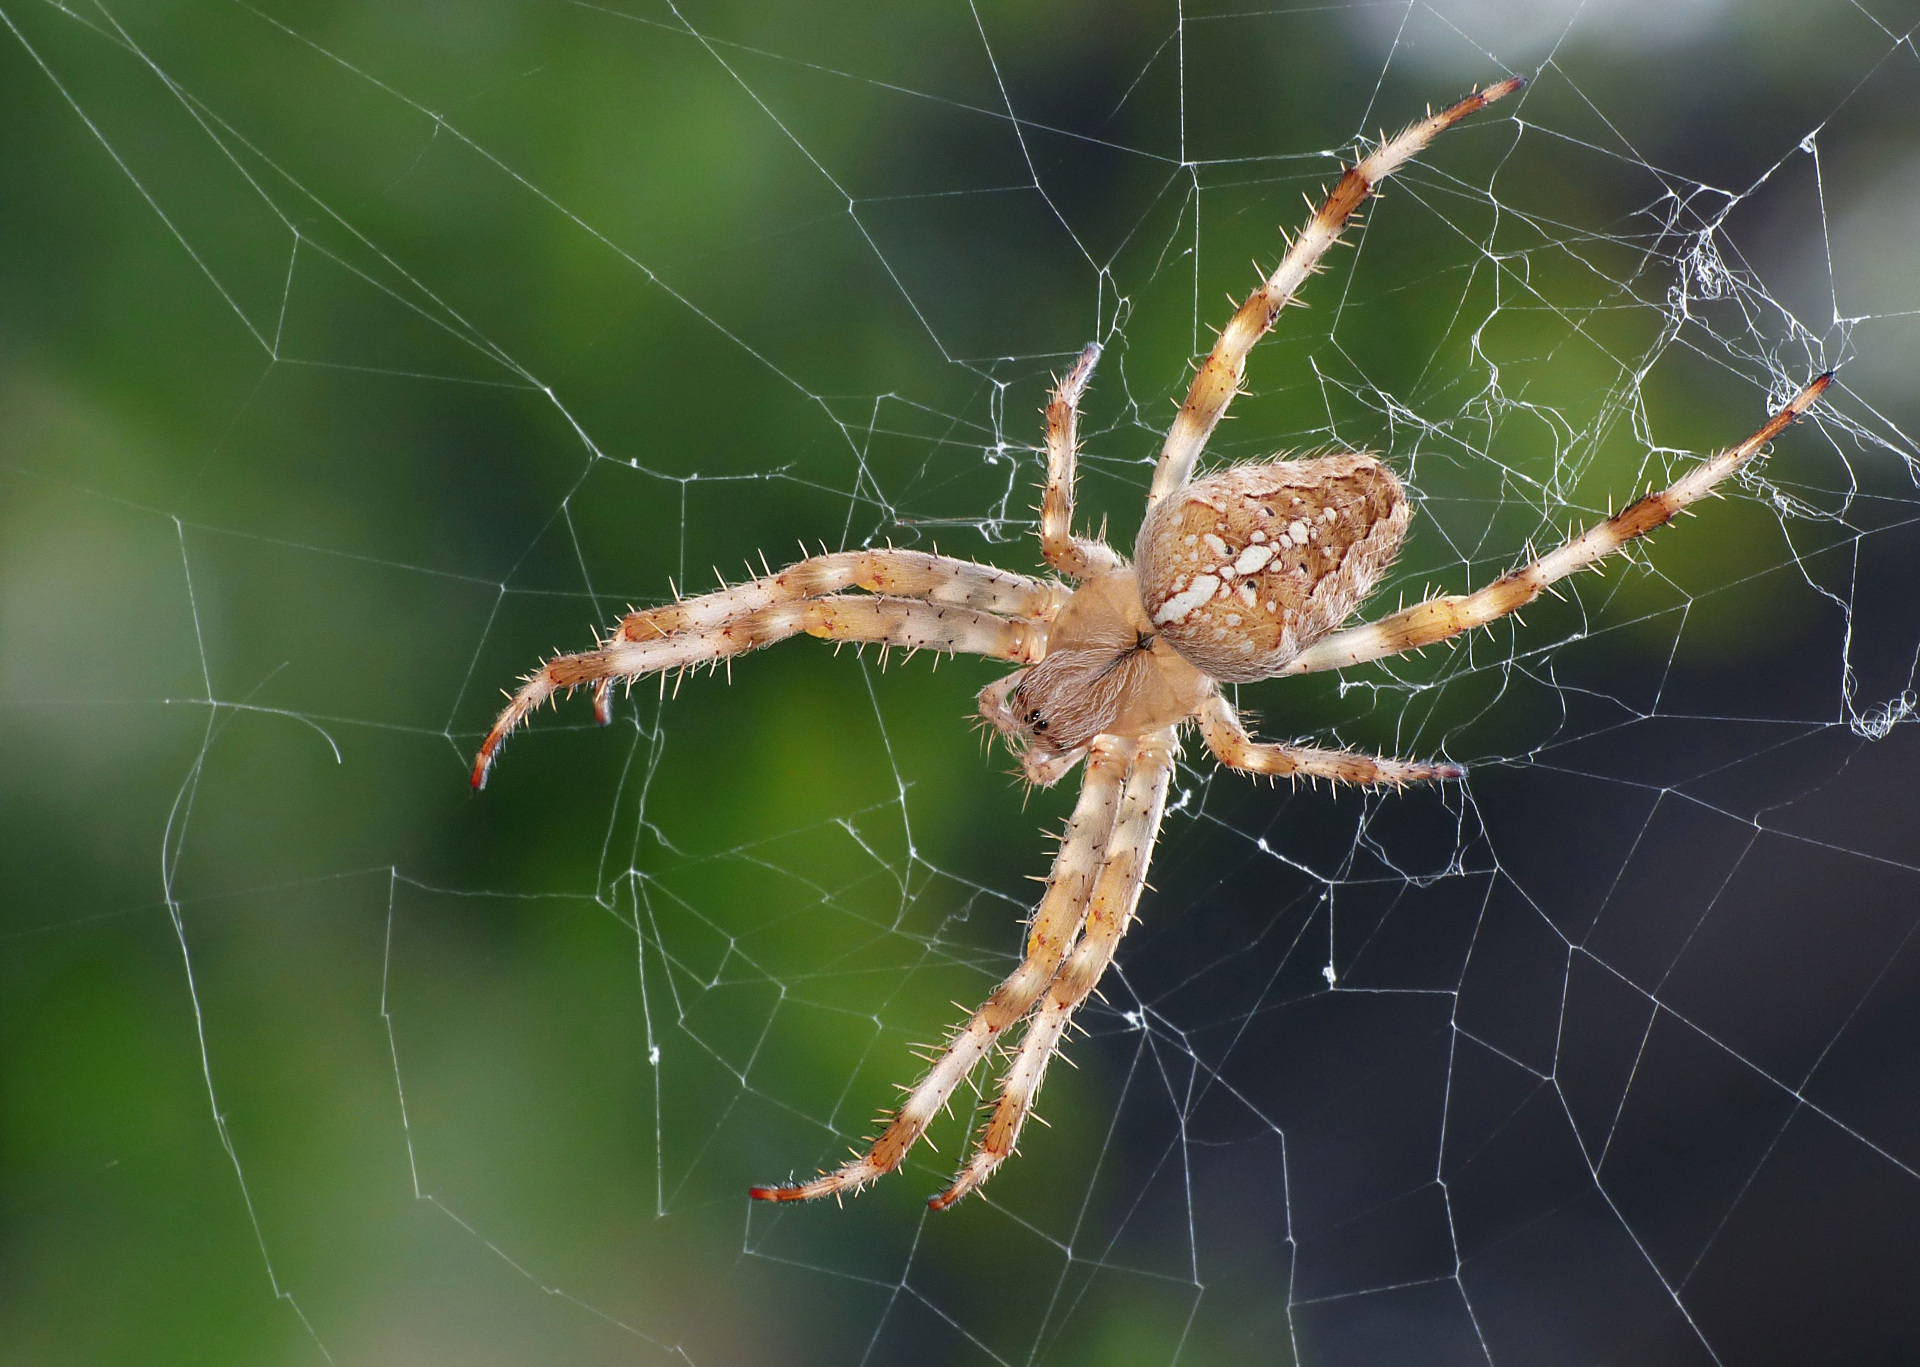spider: (419, 38, 1859, 1262)
